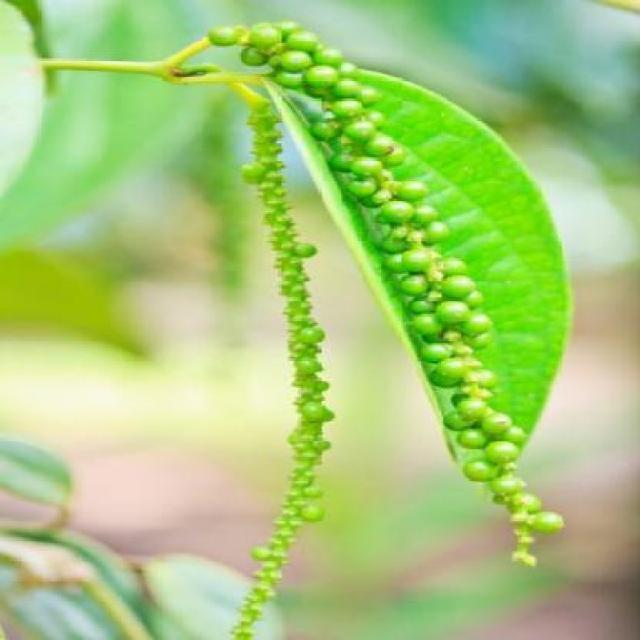UNRIPE: (203, 19, 560, 567), (230, 93, 325, 639)
